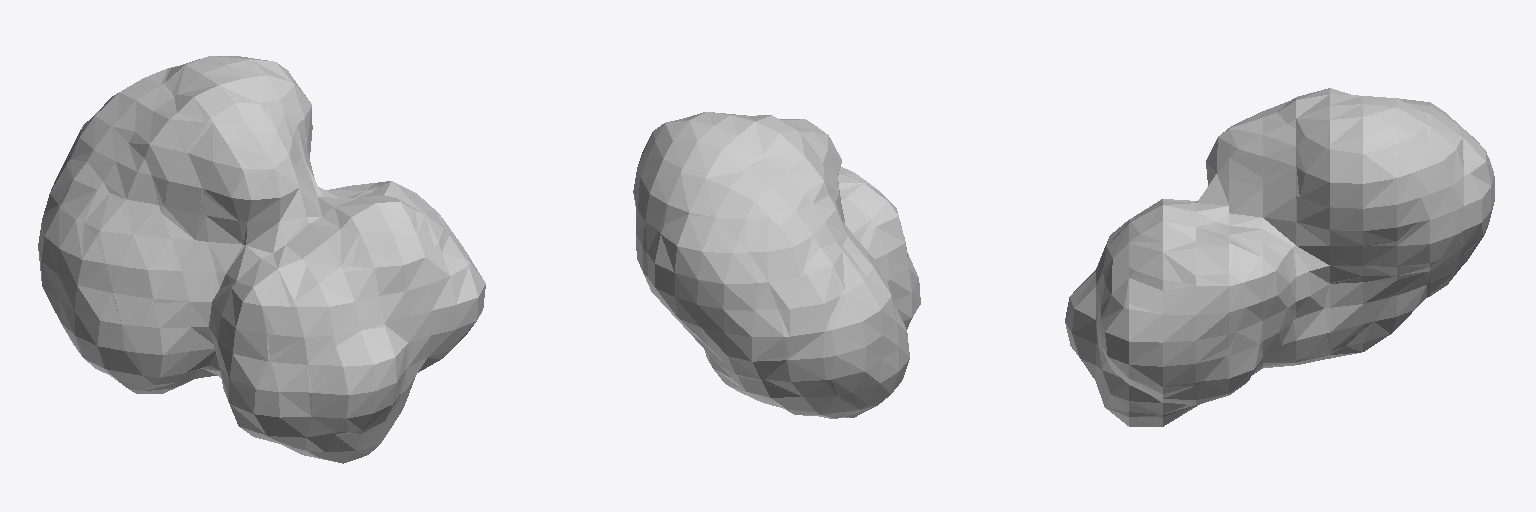
The model's file is 3e6b_cms.obj.
3 renders of one model, left to right at view 1: azimuth 30°, elevation 25°; view 2: azimuth 150°, elevation 25°; view 3: azimuth 270°, elevation 25°, orthographic.
Size of the model in its own units: 70.41 by 67.78 by 83.76.